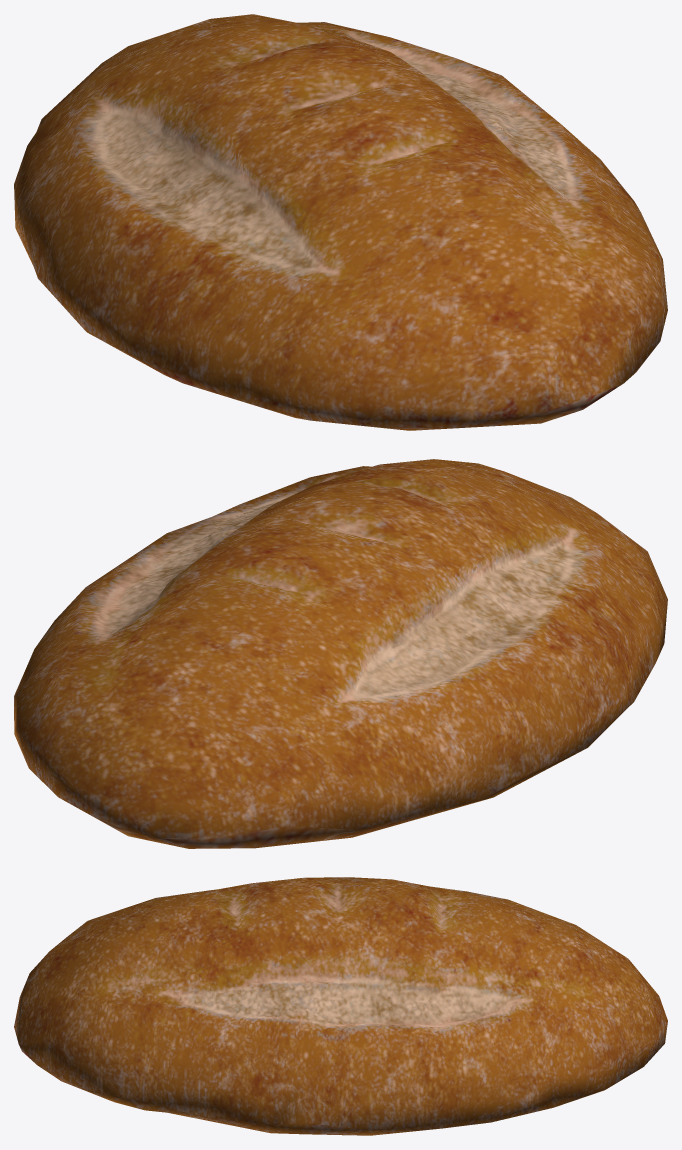
The model's file is Bread_26.obj.
3 renders of one model, top to bottom at view 1: azimuth 30°, elevation 25°; view 2: azimuth 150°, elevation 25°; view 3: azimuth 270°, elevation 25°, orthographic. The views are drawn at different scales.
Visible parts, largest first — view 1: loafbread_b_mesh; view 2: loafbread_b_mesh; view 3: loafbread_b_mesh.
Part boxes in pixels (box(x1,y1,x2,y2)): loafbread_b_mesh: box(14, 14, 667, 430); loafbread_b_mesh: box(14, 459, 667, 848); loafbread_b_mesh: box(14, 877, 667, 1135).
Bounding box in the file's own units: 0.2256 × 0.089 × 0.3185.
